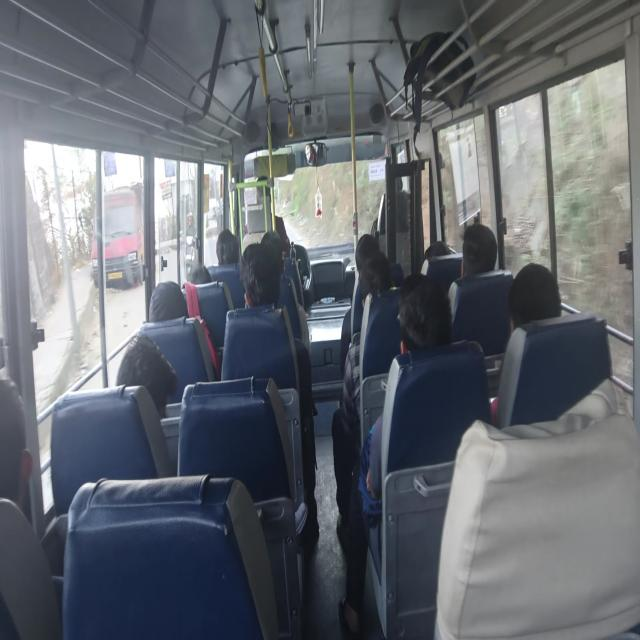person: (338, 274, 453, 636), (239, 239, 319, 543), (332, 250, 394, 546), (489, 261, 562, 421), (340, 233, 380, 374), (115, 332, 178, 420), (447, 222, 498, 320), (0, 376, 33, 516), (507, 261, 561, 335), (359, 250, 393, 302), (148, 280, 189, 322), (421, 240, 455, 275), (216, 229, 240, 265), (187, 261, 212, 285)
